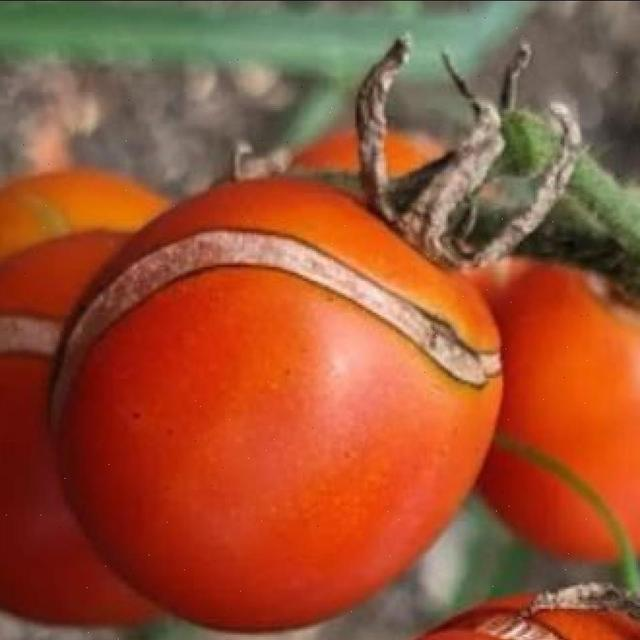Cracking Fruit: (28, 20, 349, 417)
